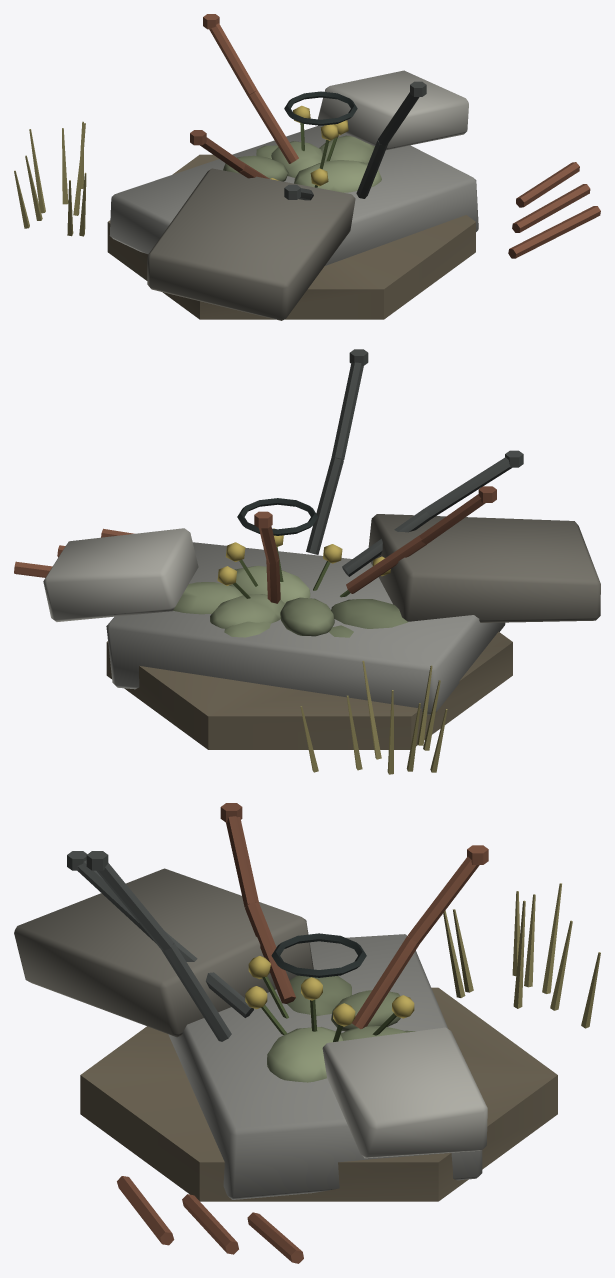
Rendered from rebar_bloom_c.glb.
The picture shows the model from 3 angles, top to bottom: view 1: azimuth 30°, elevation 25°; view 2: azimuth 150°, elevation 25°; view 3: azimuth 270°, elevation 25°; orthographic projection. The views are drawn at different scales.
Parts seen in each view (by area): view 1: Surface; view 2: Surface; view 3: Surface.
Boxes of the visible parts, x1,y1,x2,y2 form: Surface: (14, 14, 600, 320); Surface: (14, 349, 600, 774); Surface: (14, 803, 600, 1263).
Bounding box in the file's own units: 4.97 × 2.18 × 4.06.
